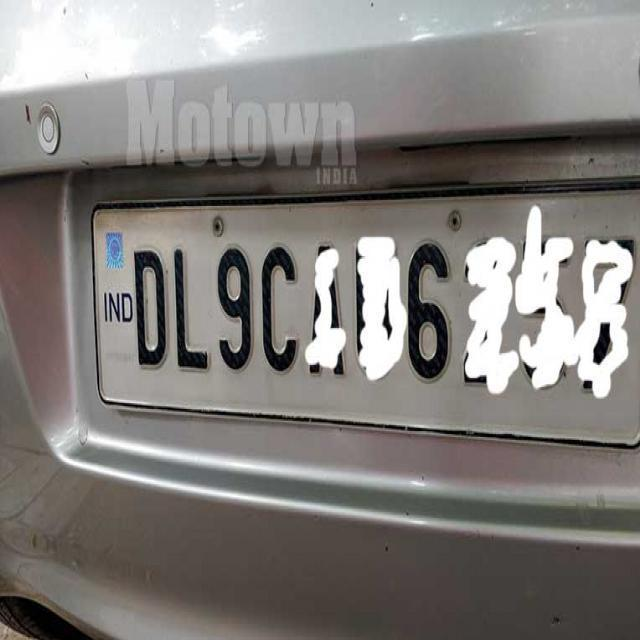License_Plate: (91, 191, 640, 452)
